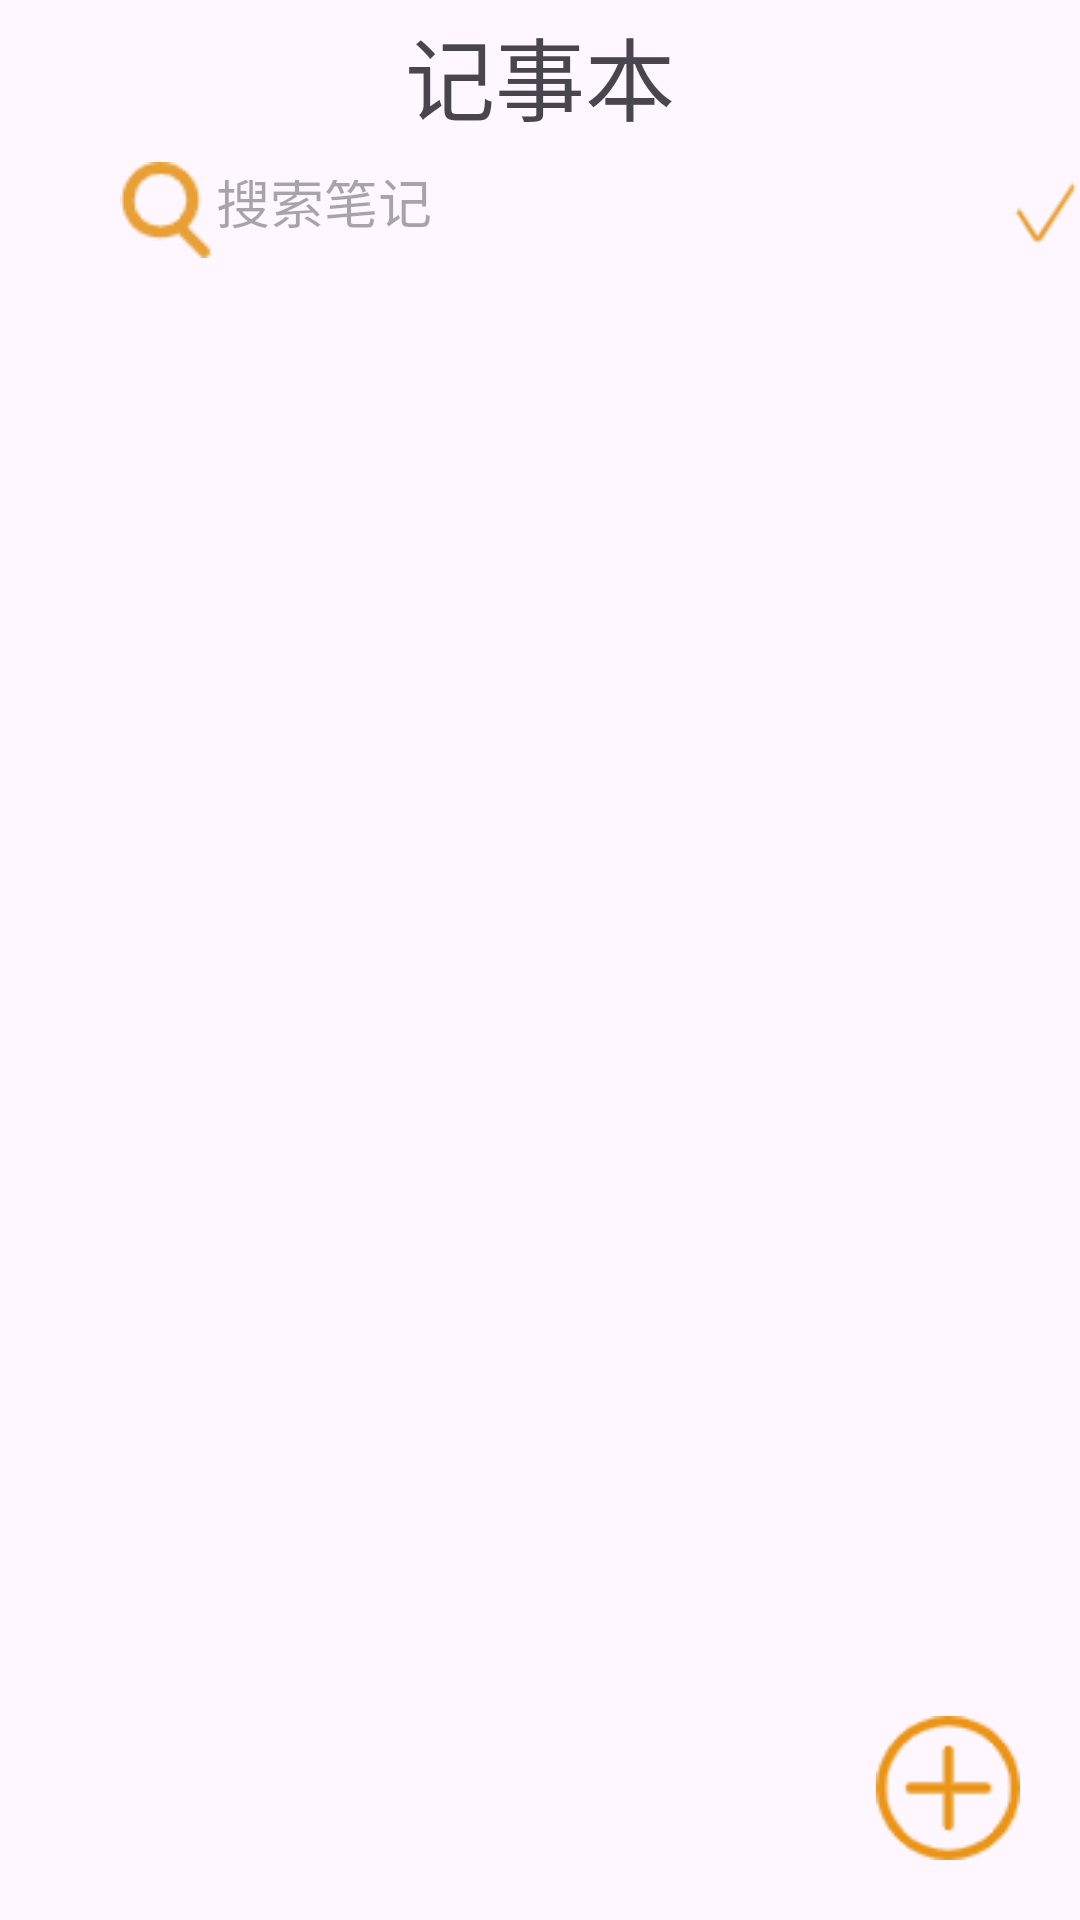

Named icons in this screenshot (1080 x 1920) and their centers, (x,y):
add: (948,1788)
check: (1045,212)
